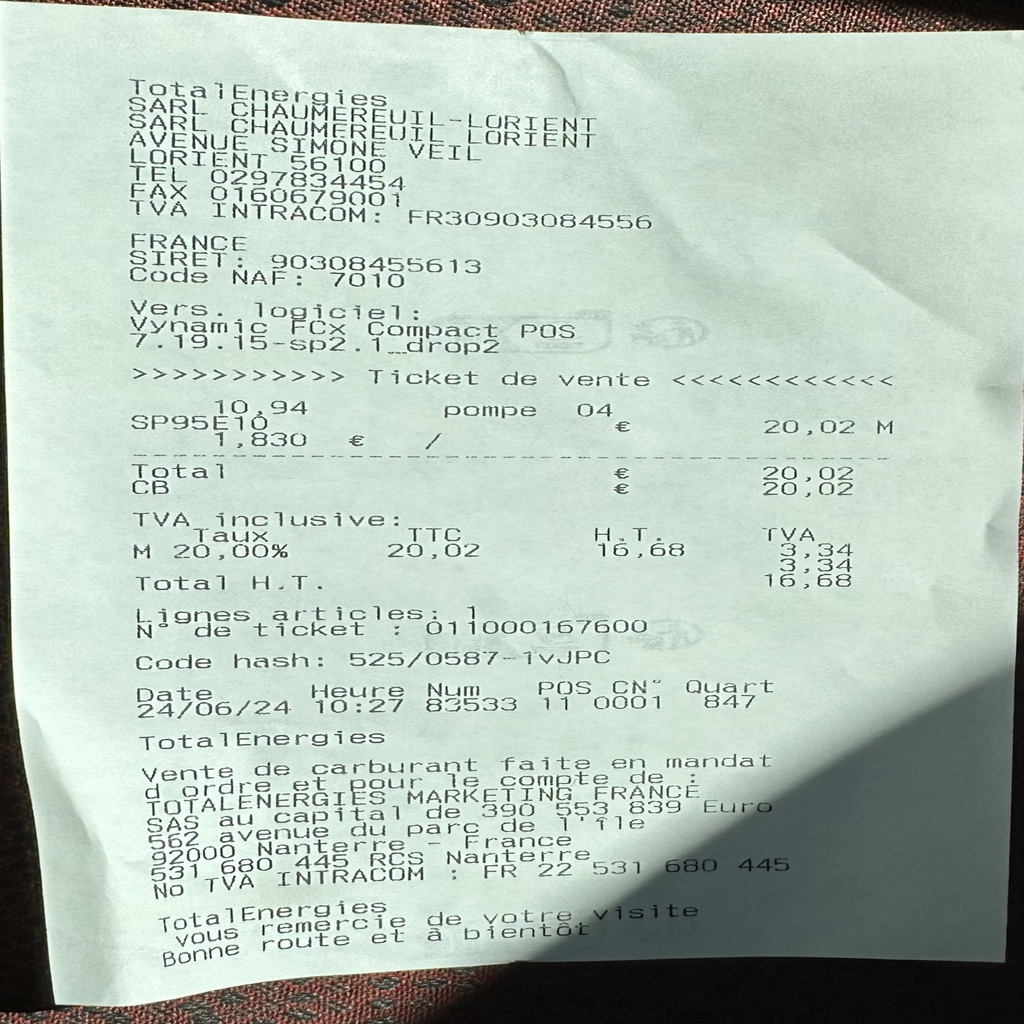recipt: (2, 2, 1024, 1011)
